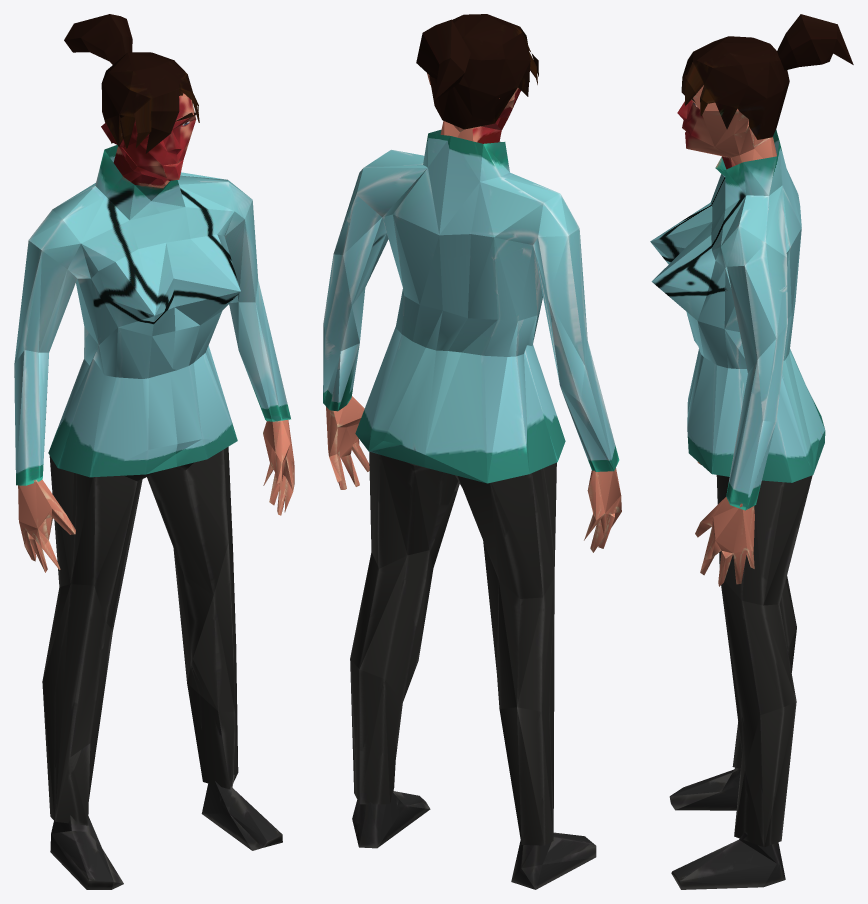
Rendered from corpse woman bloody.fbx.
3 renders of one model, left to right at view 1: azimuth 30°, elevation 25°; view 2: azimuth 150°, elevation 25°; view 3: azimuth 270°, elevation 25°, orthographic. The views are drawn at different scales.
Parts seen in each view (by area): view 1: Human 2; view 2: Human 2; view 3: Human 2.
Part boxes in pixels (x1,y1,x2,y2): Human 2: [14, 14, 294, 889]; Human 2: [323, 14, 621, 889]; Human 2: [650, 14, 853, 889].
Bounding box in the file's own units: 60.49 × 173 × 38.79.
Materials: 3 (3 with a texture image).
